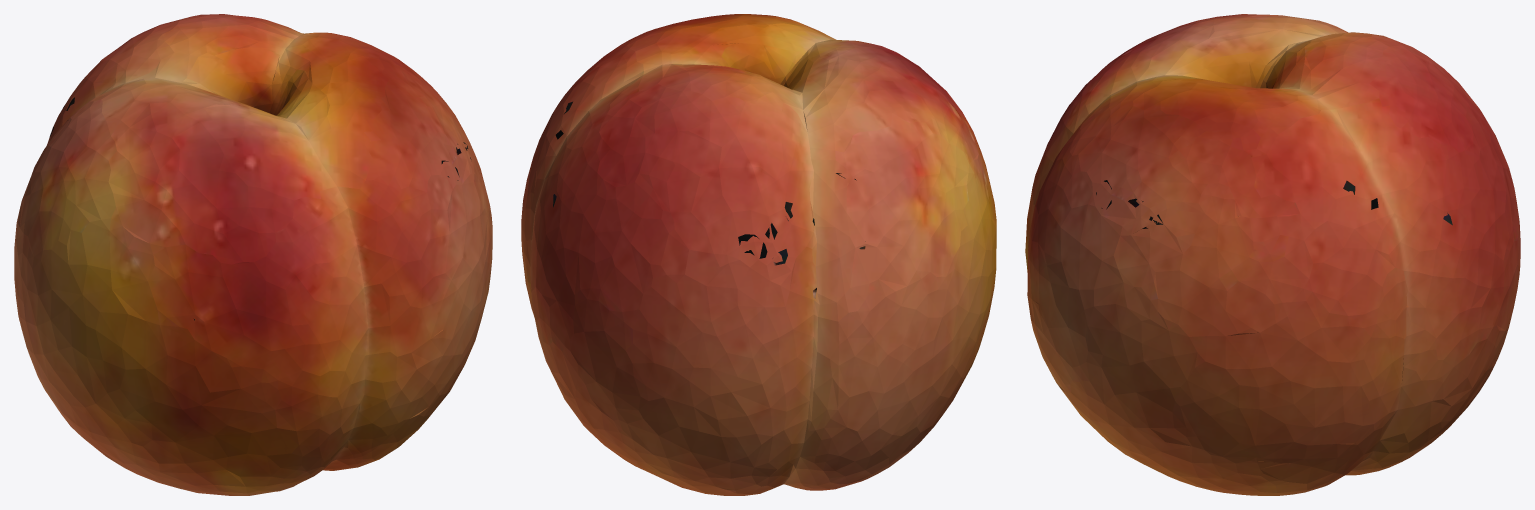
File: peach.glb
3 views of the same model, side by side, from view 1: azimuth 30°, elevation 25°; view 2: azimuth 150°, elevation 25°; view 3: azimuth 270°, elevation 25° (orthographic). The views are drawn at different scales.
Visible parts, largest first — view 1: geometry_0; view 2: geometry_0; view 3: geometry_0.
Part boxes in pixels (left/top/right/bottom): geometry_0: left=14, top=14, right=492, bottom=495; geometry_0: left=521, top=14, right=996, bottom=495; geometry_0: left=1025, top=14, right=1520, bottom=495.
Size of the model in its own units: 0.9882 by 0.9194 by 0.9987.
1 material, 1 textured.
